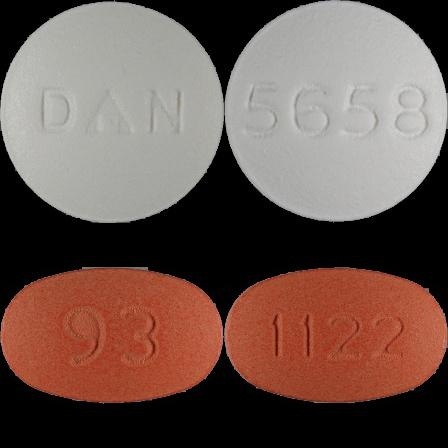66336-581: (0, 0, 224, 224)
